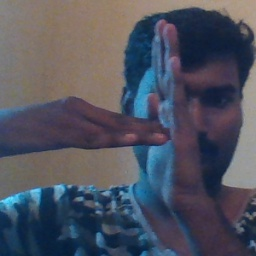Z: (81, 18, 206, 195)
